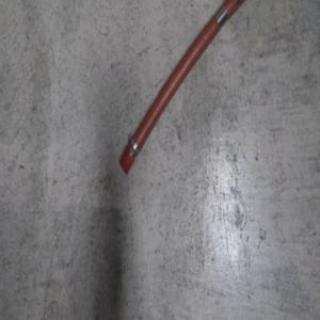Hosetrack_idkeyframe: (116, 0, 249, 176)
